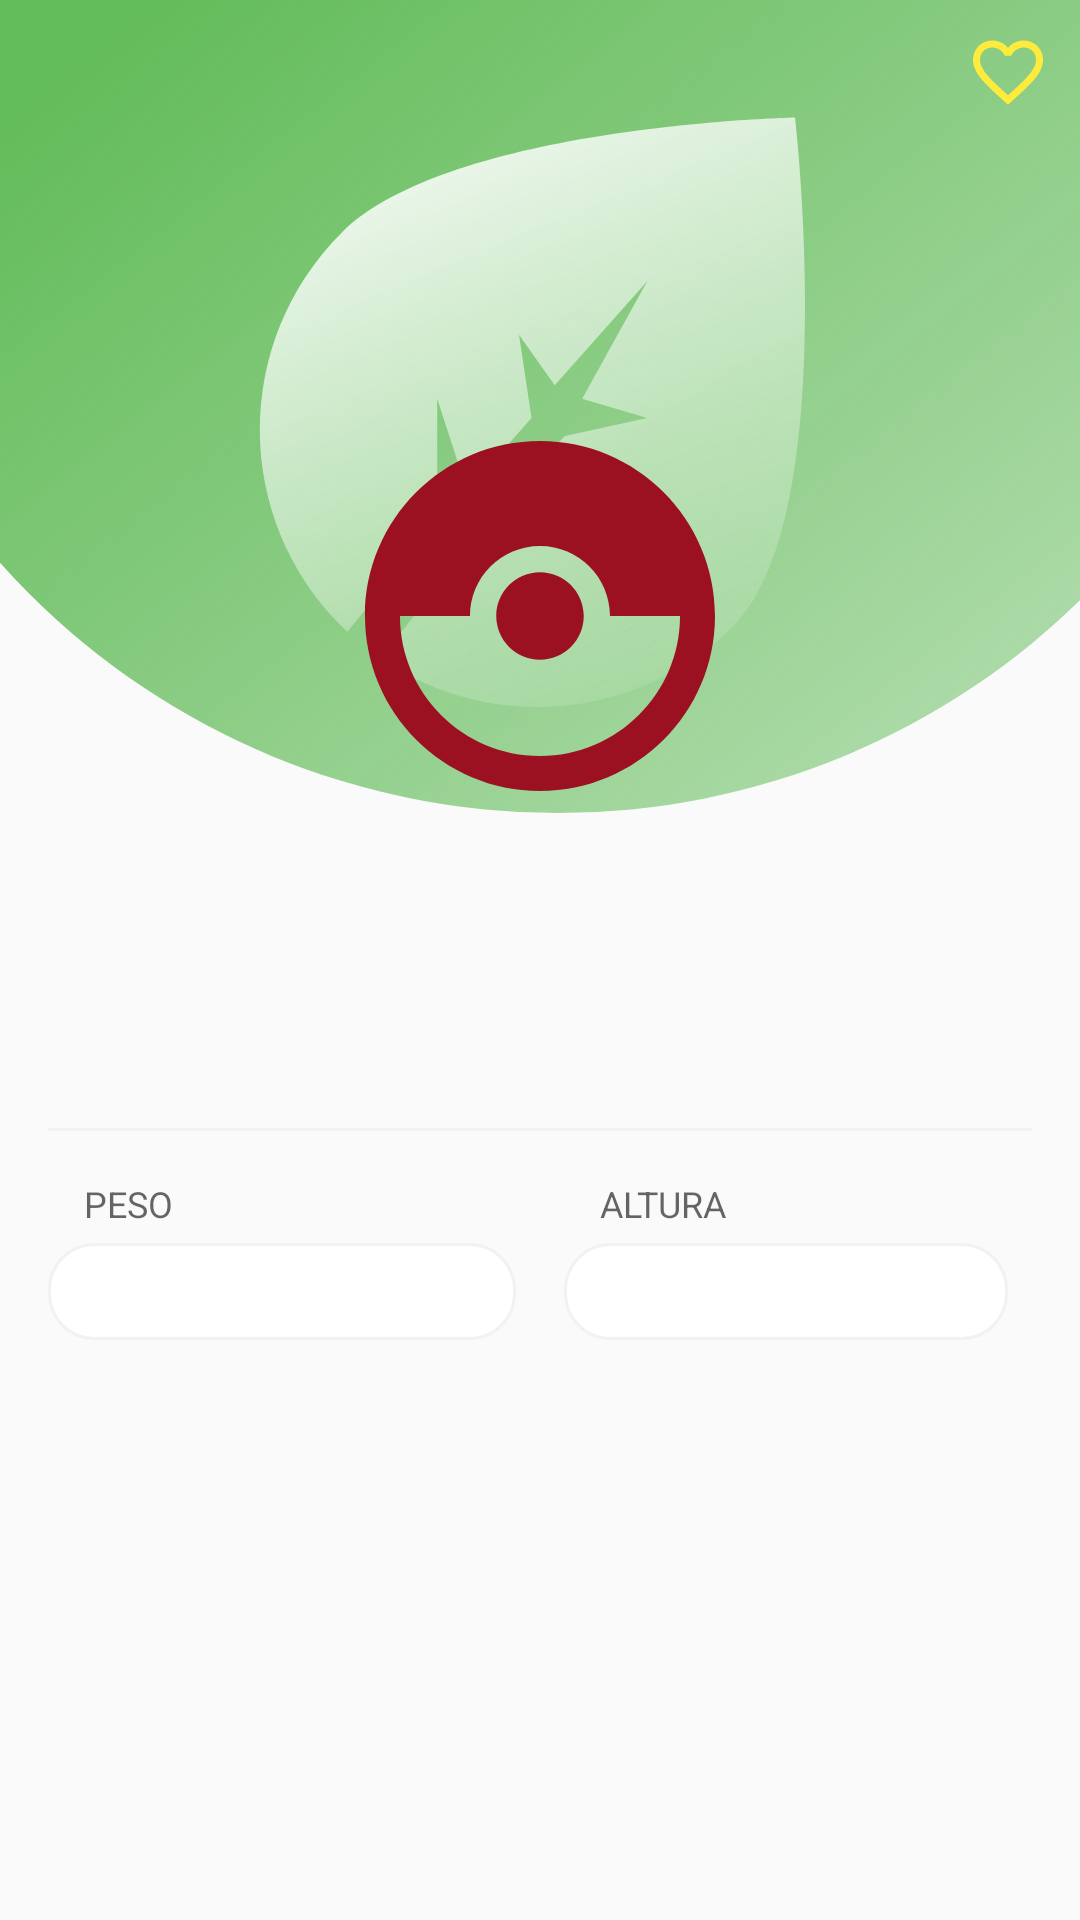

Icons on this 1080w x 1920h Android screen, each with the point to tap as (x=x, y=y):
favorite: (x=1008, y=72)
